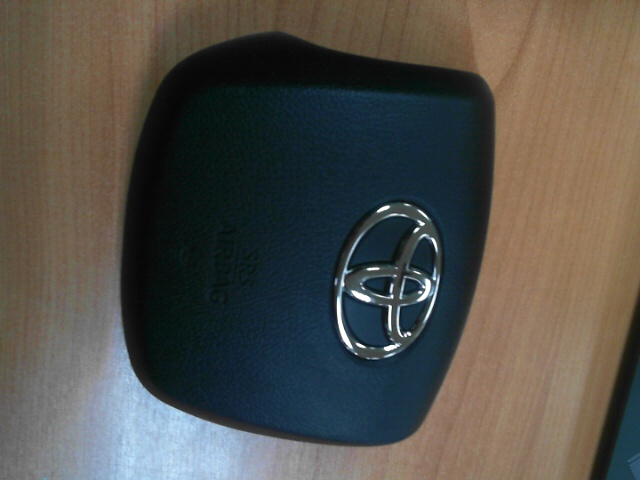Airbag: (117, 26, 496, 449)
